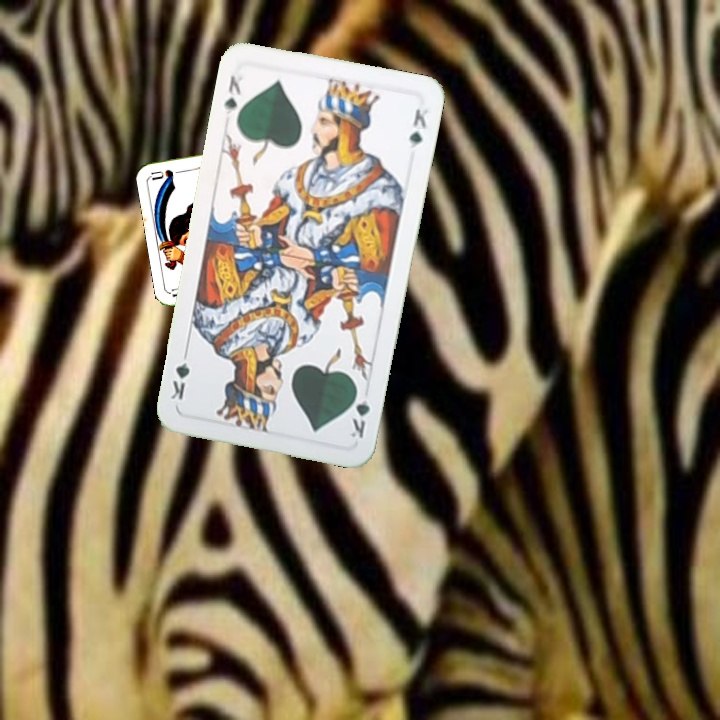GK: (346, 383, 373, 441), (220, 72, 243, 118)
